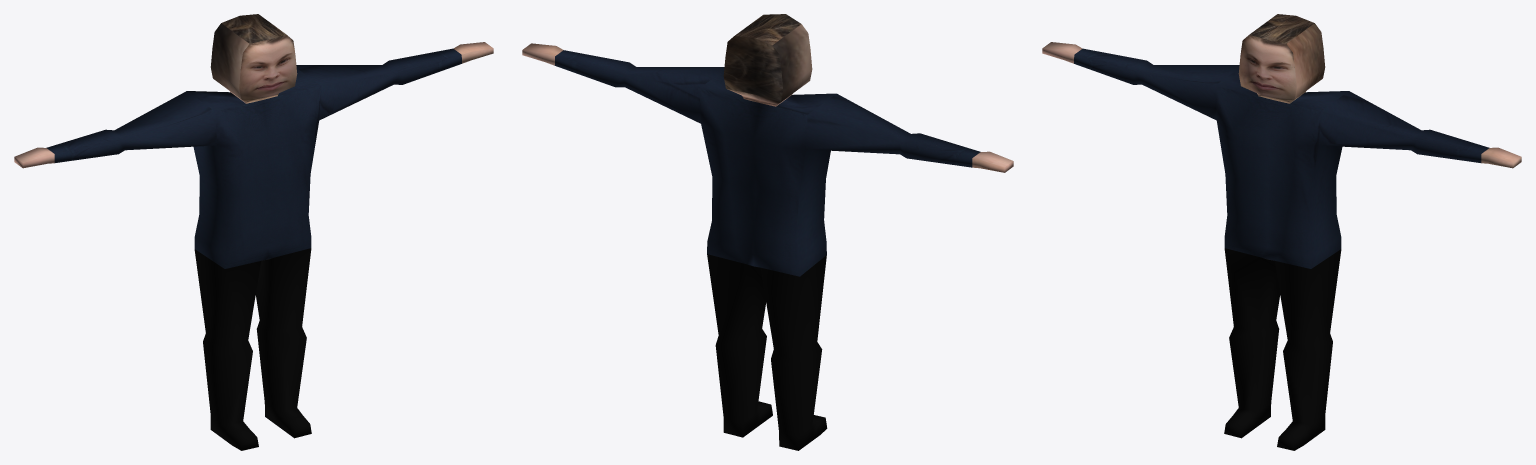
Rendered from vinny.fbx.
The picture shows the model from 3 angles, left to right: view 1: azimuth 30°, elevation 25°; view 2: azimuth 150°, elevation 25°; view 3: azimuth 330°, elevation 25°; orthographic projection. The views are drawn at different scales.
Parts seen in each view (by area): view 1: Cube.002; view 2: Cube.002; view 3: Cube.002.
Part boxes in pixels (left/top/right/bottom): Cube.002: left=14, top=14, right=493, bottom=450; Cube.002: left=522, top=14, right=1013, bottom=450; Cube.002: left=1042, top=14, right=1521, bottom=450.
Bounding box in the file's own units: 1916 × 1555 × 268.
Materials: 1 (1 with a texture image).
